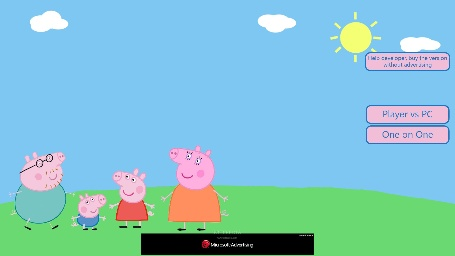Peppa: (110, 168, 157, 231)
